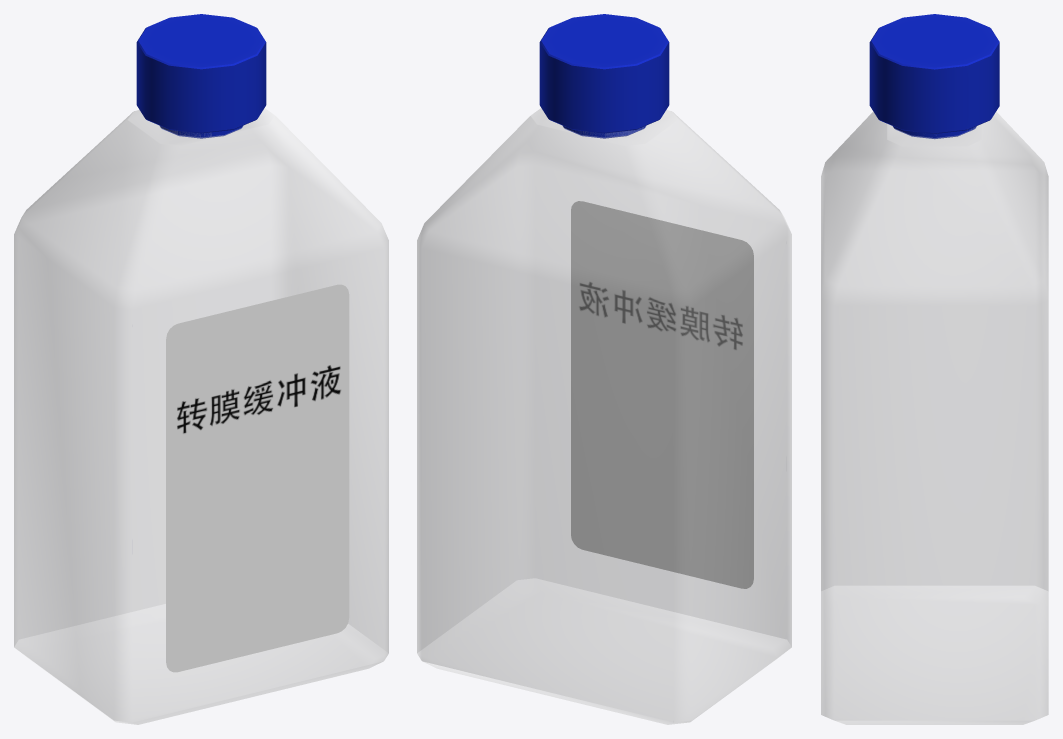
The model's file is 转膜缓冲液.glb.
The picture shows the model from 3 angles, left to right: view 1: azimuth 30°, elevation 25°; view 2: azimuth 150°, elevation 25°; view 3: azimuth 270°, elevation 25°; orthographic projection.
Parts seen in each view (by area): view 1: 转膜缓冲液, 对象013, Cylinder022; view 2: 转膜缓冲液, 对象013, Cylinder022; view 3: 转膜缓冲液, Cylinder022.
Boxes of the visible parts, box(x1,y1,x2,y2) form: 转膜缓冲液: box(14, 108, 388, 724); 对象013: box(166, 284, 349, 672); Cylinder022: box(136, 14, 266, 138); 转膜缓冲液: box(417, 108, 791, 724); 对象013: box(571, 201, 753, 588); Cylinder022: box(539, 14, 669, 138); 转膜缓冲液: box(821, 112, 1048, 724); Cylinder022: box(869, 14, 999, 139).
Bounding box in the file's own units: 0.0488 × 0.1047 × 0.0349.
Materials: 1 (1 with a texture image).
